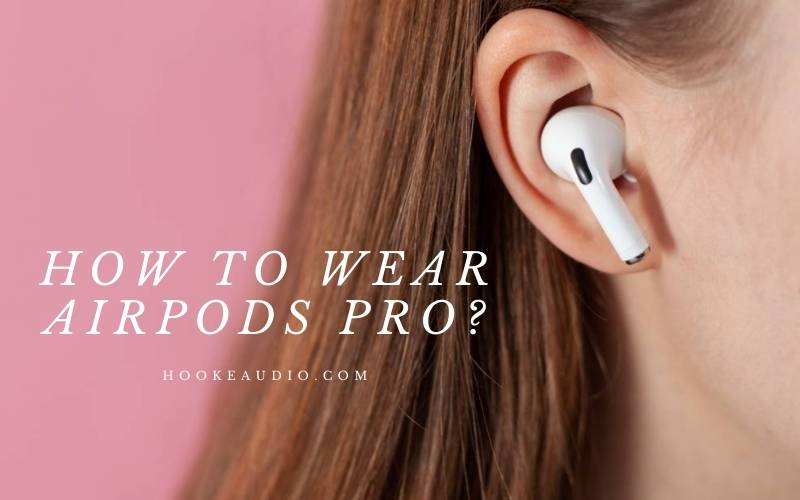earphone: (472, 8, 678, 276)
